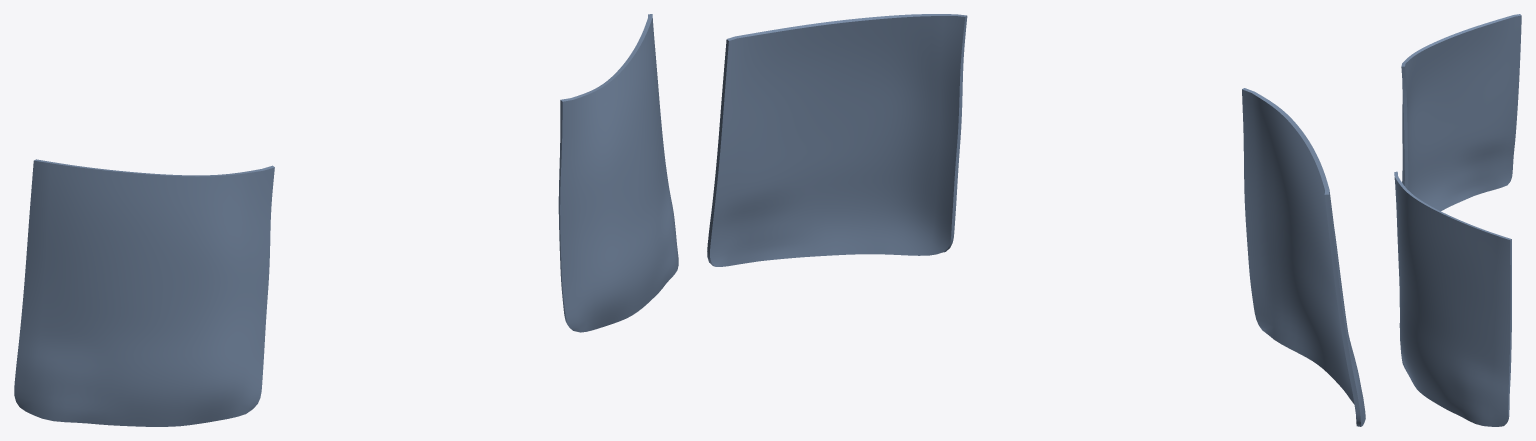
The model's file is SM_CarlosSA_Jacket_WaistPockets_Patch.fbx.
The picture shows the model from 3 angles, left to right: view 1: azimuth 30°, elevation 25°; view 2: azimuth 150°, elevation 25°; view 3: azimuth 270°, elevation 25°; orthographic projection. The views are drawn at different scales.
Parts seen in each view (by area): view 1: SM_CarlosSA_Jacket_WaistPockets_Patch; view 2: SM_CarlosSA_Jacket_WaistPockets_Patch; view 3: SM_CarlosSA_Jacket_WaistPockets_Patch.
Part boxes in pixels (bbox=[...]): SM_CarlosSA_Jacket_WaistPockets_Patch: bbox=[14, 14, 678, 426]; SM_CarlosSA_Jacket_WaistPockets_Patch: bbox=[707, 14, 1365, 426]; SM_CarlosSA_Jacket_WaistPockets_Patch: bbox=[1394, 14, 1521, 426].
Size of the model in its own units: 0.3303 by 0.1195 by 0.0727.
